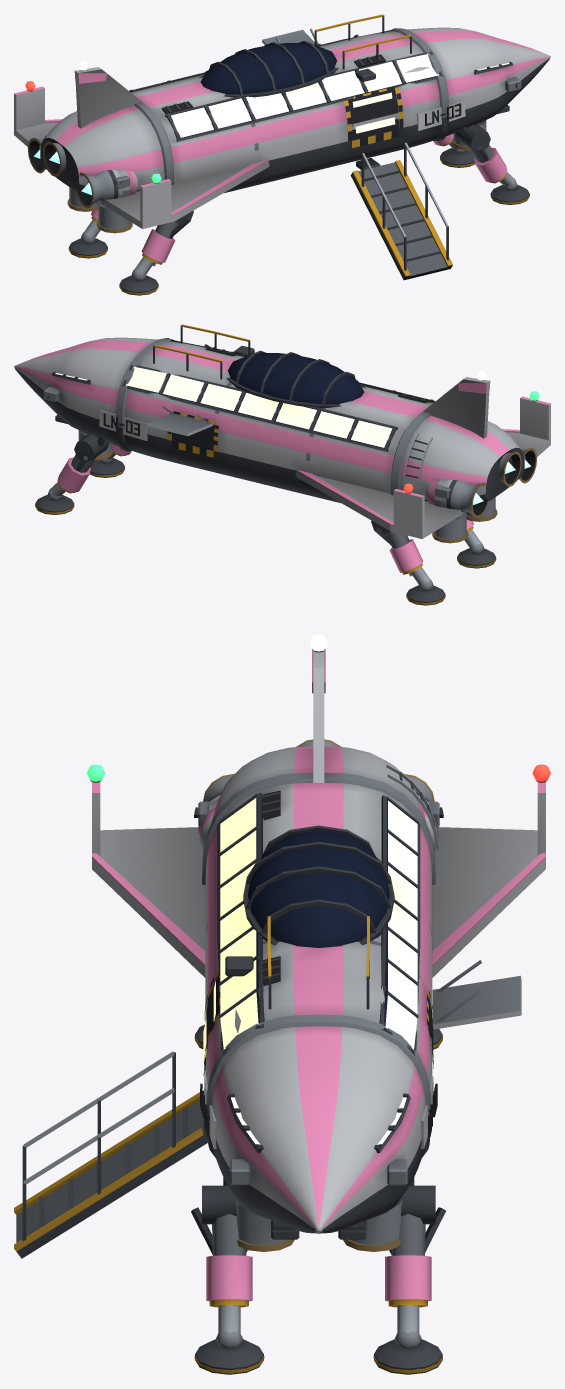
The model's file is ship_liner.glb.
3 views of the same model, one above another, from view 1: azimuth 30°, elevation 25°; view 2: azimuth 150°, elevation 25°; view 3: azimuth 270°, elevation 25° (orthographic). The views are drawn at different scales.
Parts seen in each view (by area): view 1: Hull, Ramp, Lights, Leg_FR, Leg_RR, Leg_RL, Leg_FL, Door_Service; view 2: Hull, Lights, Leg_FL, Leg_RL, Door_Service, Leg_RR, Leg_FR; view 3: Hull, Lights, Ramp, Leg_FR, Leg_FL, Door_Service.
Part boxes in pixels (left/top/right/bottom): Hull: left=14, top=14, right=550, bottom=233; Ramp: left=350, top=142, right=452, bottom=280; Lights: left=25, top=54, right=509, bottom=183; Leg_FR: left=455, top=124, right=529, bottom=204; Leg_RR: left=119, top=210, right=193, bottom=295; Leg_RL: left=68, top=209, right=107, bottom=258; Leg_FL: left=433, top=134, right=475, bottom=167; Door_Service: left=262, top=28, right=318, bottom=44; Hull: left=14, top=324, right=550, bottom=543; Lights: left=55, top=366, right=539, bottom=493; Leg_FL: left=35, top=434, right=109, bottom=514; Leg_RL: left=371, top=520, right=445, bottom=605; Door_Service: left=147, top=405, right=212, bottom=436; Leg_RR: left=457, top=519, right=496, bottom=568; Leg_FR: left=89, top=444, right=131, bottom=477; Hull: left=90, top=649, right=547, bottom=1251; Lights: left=87, top=634, right=550, bottom=1144; Ramp: left=14, top=1051, right=207, bottom=1258; Leg_FR: left=191, top=1177, right=264, bottom=1374; Leg_FL: left=373, top=1177, right=445, bottom=1374; Door_Service: left=432, top=960, right=521, bottom=1029.
Bounding box in the file's own units: 14.88 × 6.1 × 7.81.
